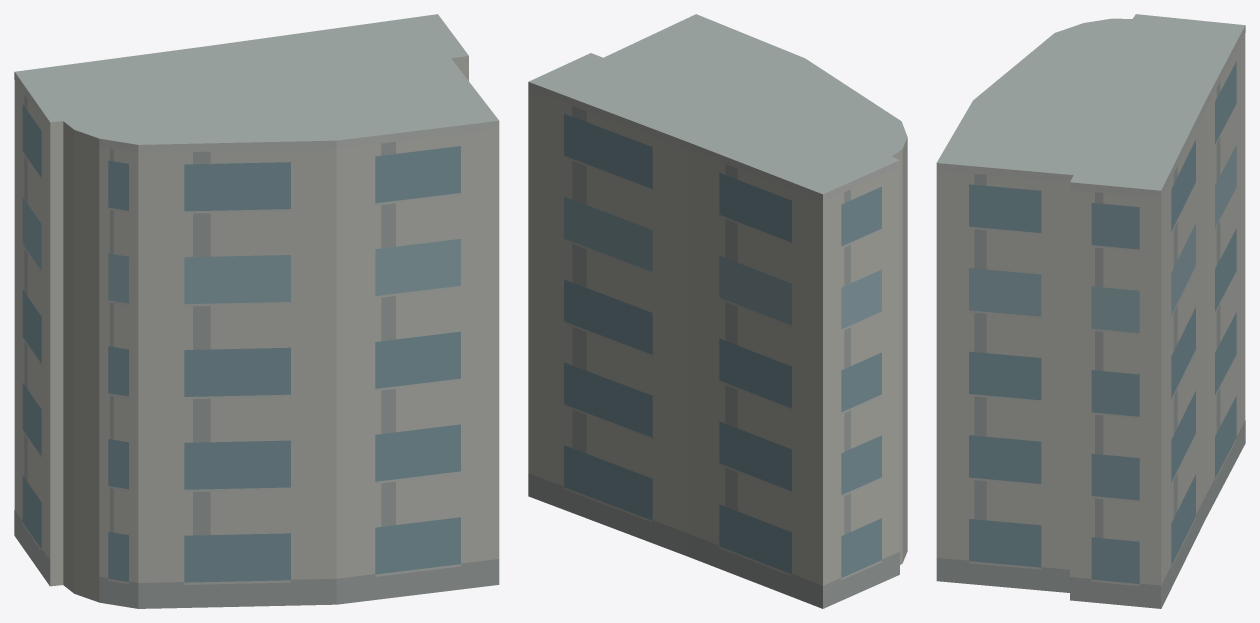
The model's file is survey-upis-32727166.glb.
The picture shows the model from 3 angles, left to right: view 1: azimuth 30°, elevation 25°; view 2: azimuth 150°, elevation 25°; view 3: azimuth 270°, elevation 25°; orthographic projection. The views are drawn at different scales.
Parts seen in each view (by area): view 1: survey-upis-32727166.tmp; view 2: survey-upis-32727166.tmp; view 3: survey-upis-32727166.tmp.
Part boxes in pixels (box(x1,y1,x2,y2)): survey-upis-32727166.tmp: box(14, 14, 499, 608); survey-upis-32727166.tmp: box(528, 14, 907, 608); survey-upis-32727166.tmp: box(936, 14, 1245, 608).
Bounding box in the file's own units: 12.34 × 13.6 × 9.12.
